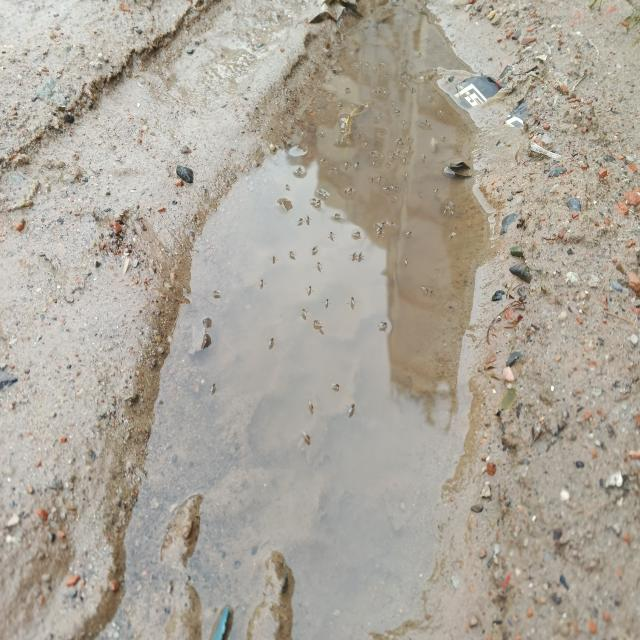Breeding Place: (74, 0, 489, 640)
